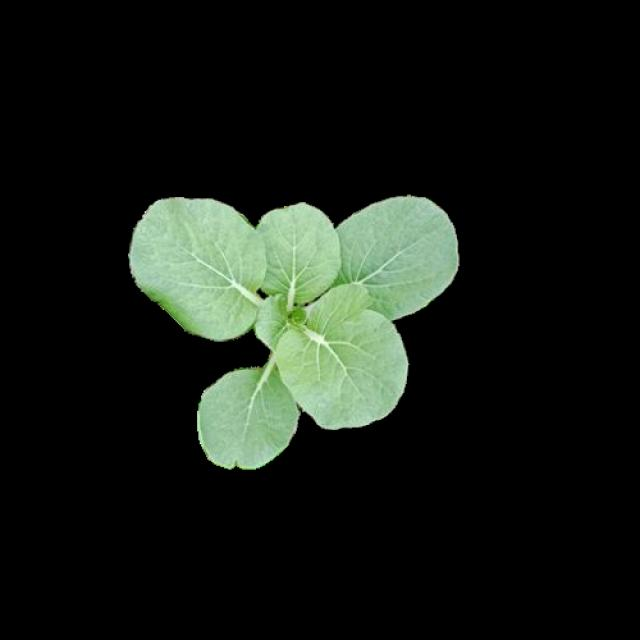healthy: (126, 186, 458, 464)
not-mature: (128, 188, 461, 467)
